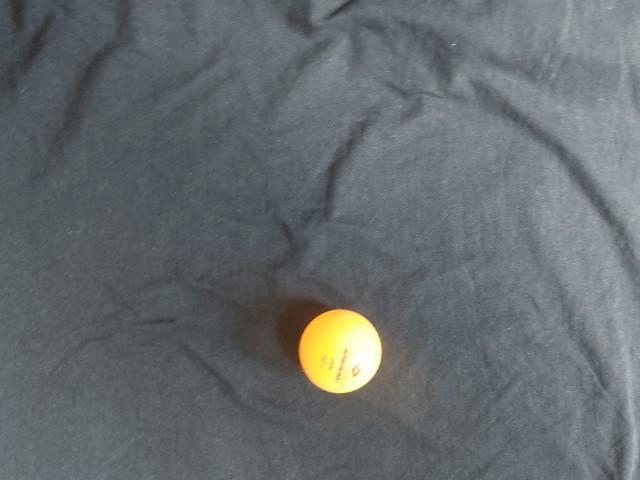oball: (250, 81, 347, 179)
